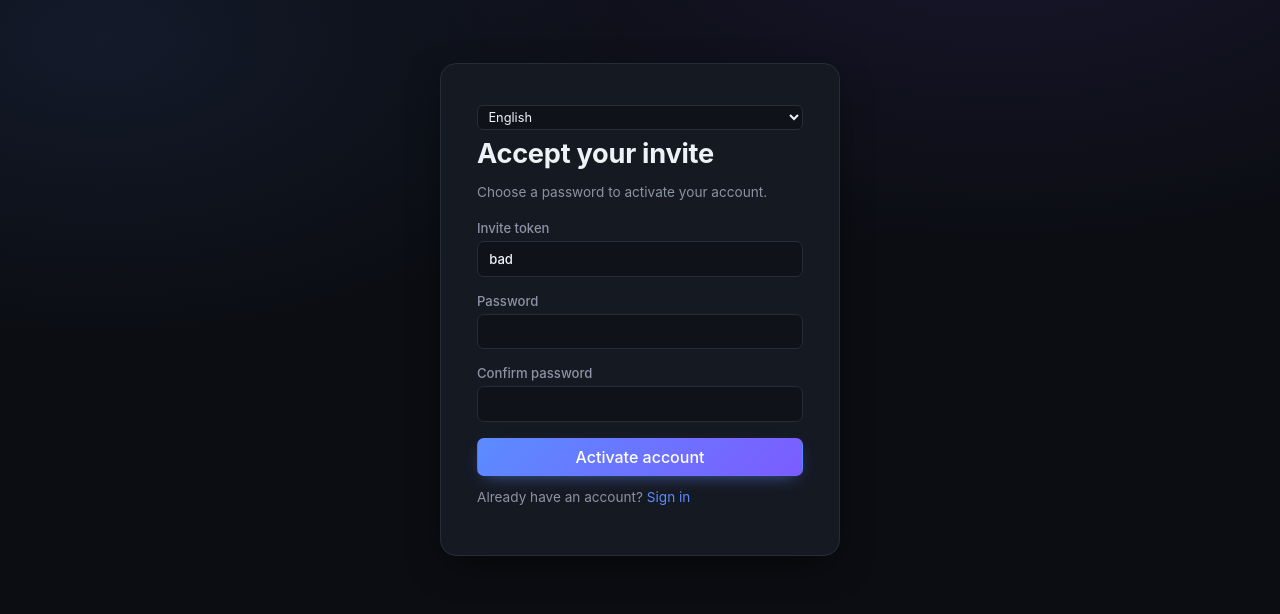
Scenario: AcceptInvitePage › surfaces the backend detail on an invalid token
This screenshot has width=1280, height=614.
Type "password1" into the password field labelled "Password".
click(640, 331); type("password1")  # box [477,314,803,349]
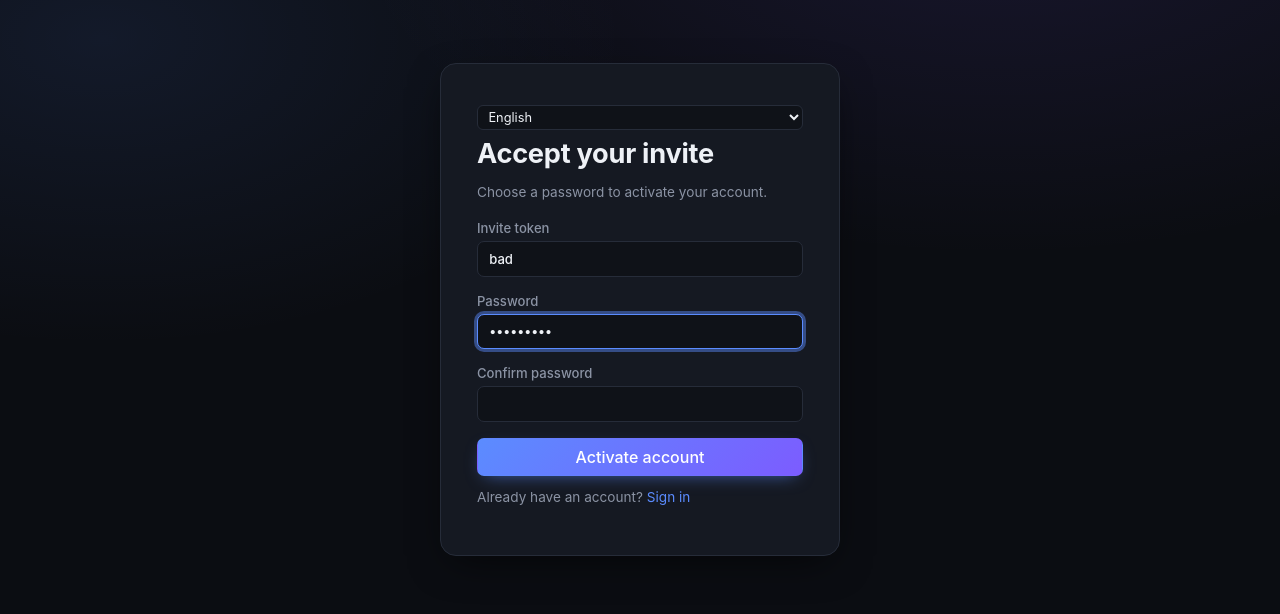
Type "password1" into the password field labelled "Confirm password".
click(640, 404); type("password1")  # box [477,386,803,422]
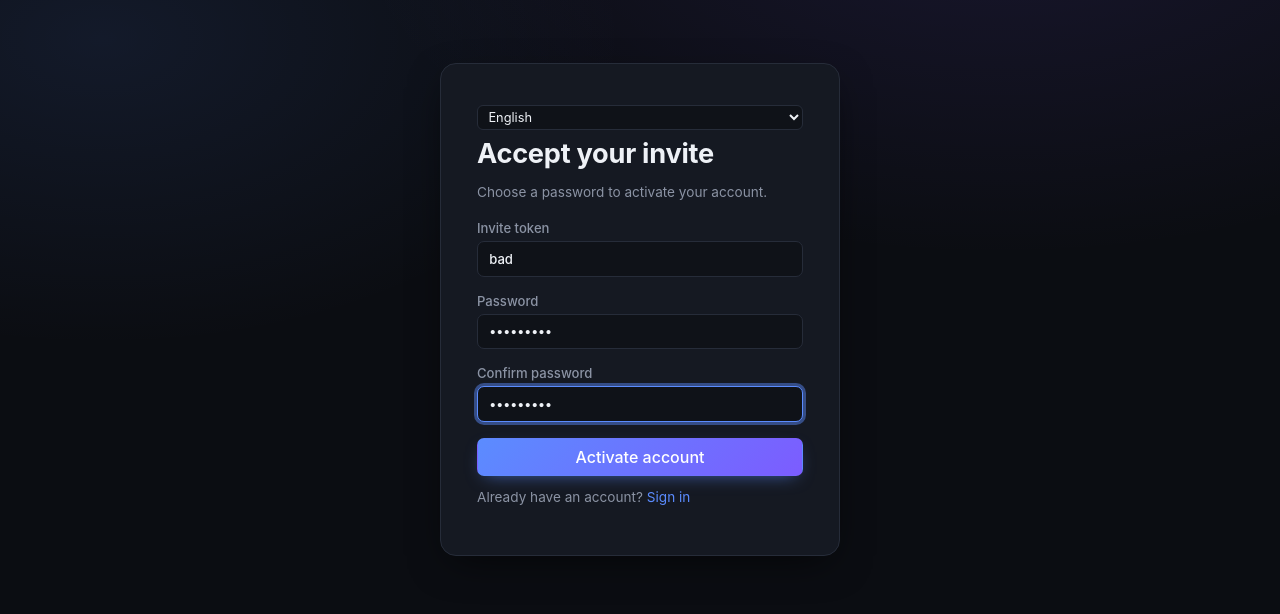
Click the button "Activate account".
click(640, 457)  # box [477,438,803,476]
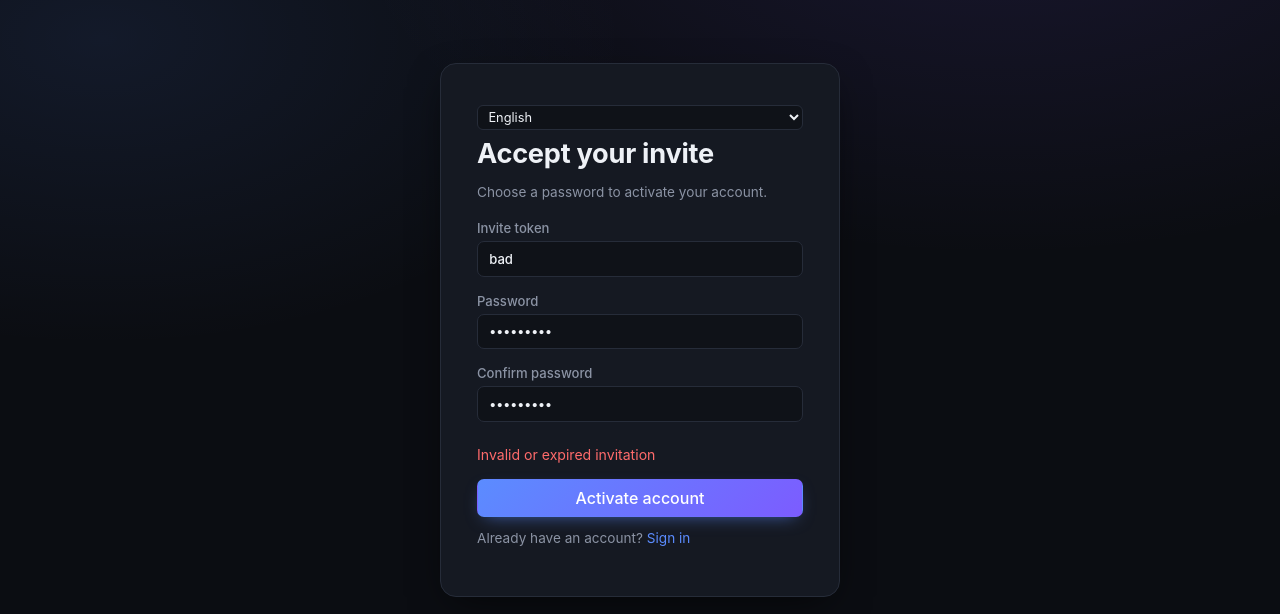
Result: the message reads "Invalid or expired invitation" at [477,446,655,463]
